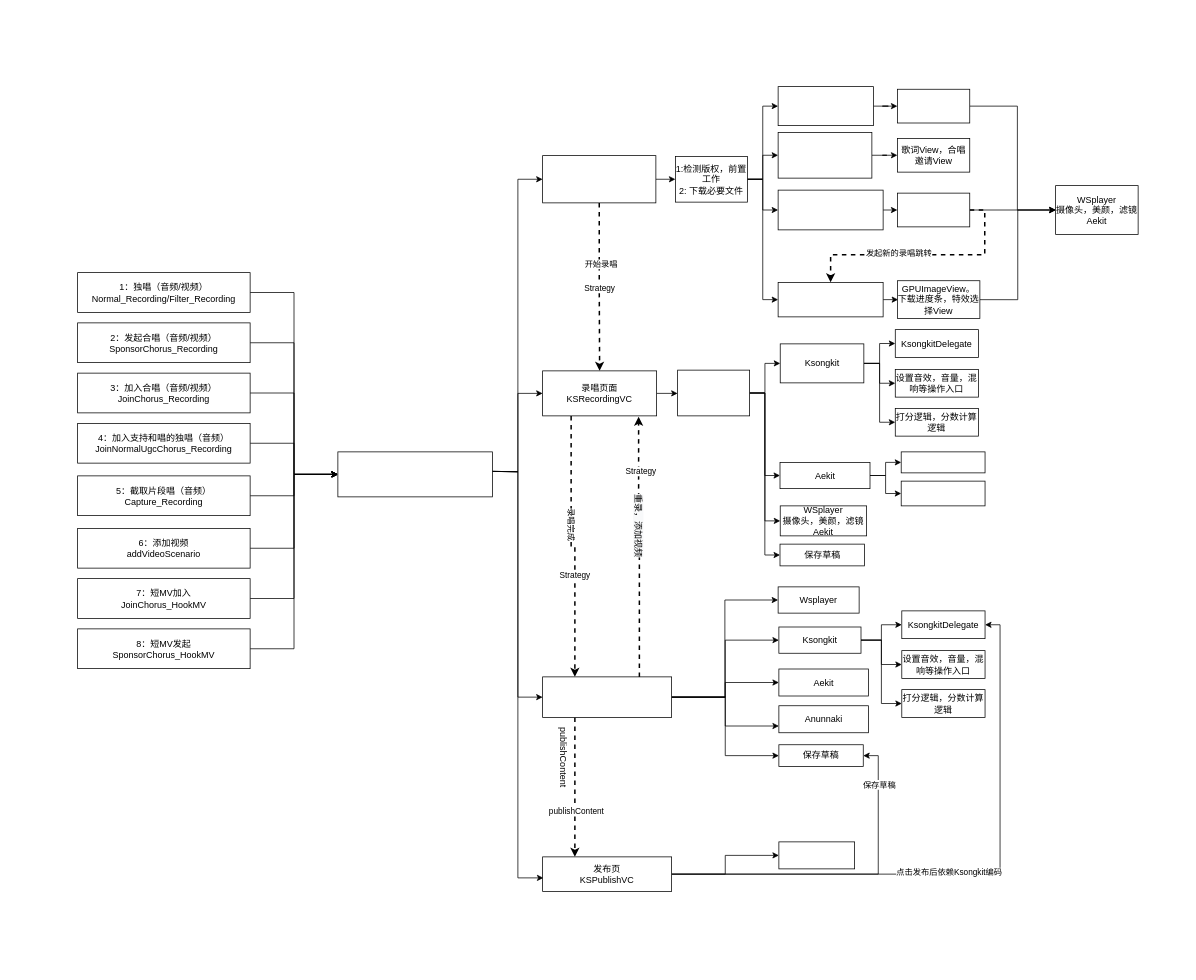
This 1196x980 diagram has some shape labels left out. Here are the shapes that lost their labels. From the top down, the box of each, then its label:
(777, 86, 873, 126): 独唱，发起合唱 KSSingPre parationVC.view
(897, 88, 970, 123): 歌词View，下载进度条，等Subview
(777, 132, 872, 178): 发起合唱，选择j角色 WSChorusSection ChooseView
(542, 155, 656, 203): 录唱前置页 KSSingPreparationVC
(777, 189, 883, 230): WSHookDuetPrepareView _Products
(897, 192, 970, 227): 视频播放View，发起新的合唱View，加入按钮
(777, 282, 883, 317): WSHookDuetPrepareView _Produce
(677, 369, 750, 416): 1:检测版权,前置工作
(337, 451, 492, 497): - (BOOL)singSongWithStrategy:(KSRecordingStrategyBase *)strategy;
(900, 451, 985, 473): 设置手势
(900, 480, 985, 506): AekitDelegate
(542, 676, 672, 717): 录唱预览页 WSRecordingCompletionVC
(778, 841, 855, 869): uploadSDK
